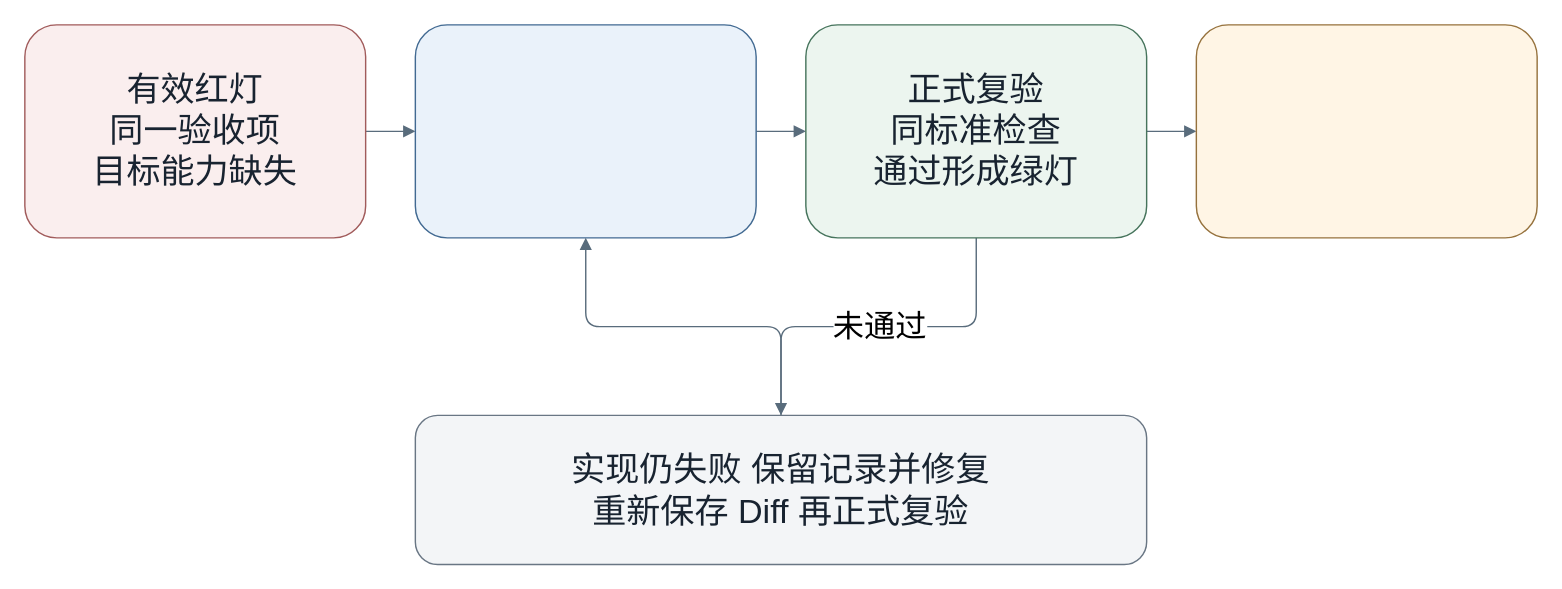
Some shapes in this 1562 by 589 pixel diagram are drawn without their labels. The centre of each missing label's shape, as x and y in pixels:
"人工复核 接受范围 剩余问题" belongs at (x=1366, y=130).
"范围内 Diff 实际代码变化 测试标准未放宽" belongs at (x=585, y=130).
